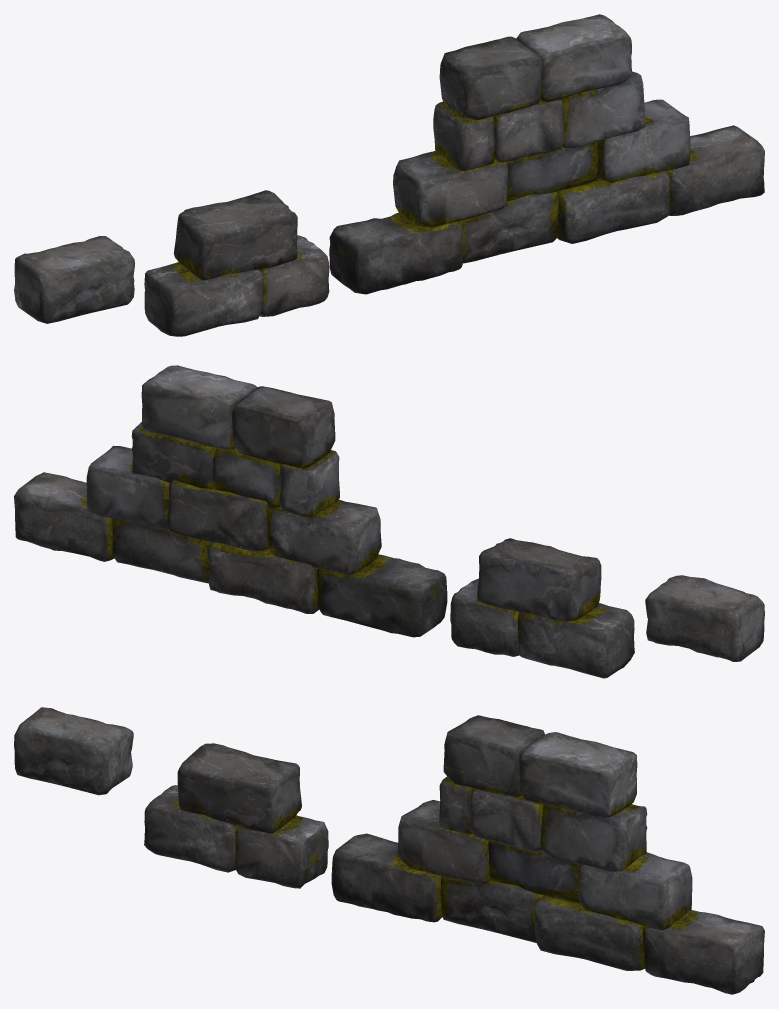
Rendered from medieval_bricks_wall.glb.
3 renders of one model, top to bottom at view 1: azimuth 30°, elevation 25°; view 2: azimuth 150°, elevation 25°; view 3: azimuth 330°, elevation 25°, orthographic.
Visible parts, largest first — view 1: LP; view 2: LP; view 3: LP.
Boxes of the visible parts, bbox=[...] form: LP: bbox=[14, 14, 764, 336]; LP: bbox=[14, 365, 764, 678]; LP: bbox=[14, 707, 764, 994].
Bounding box in the file's own units: 2 × 0.5155 × 0.196.
Materials: 1 (1 with a texture image).
